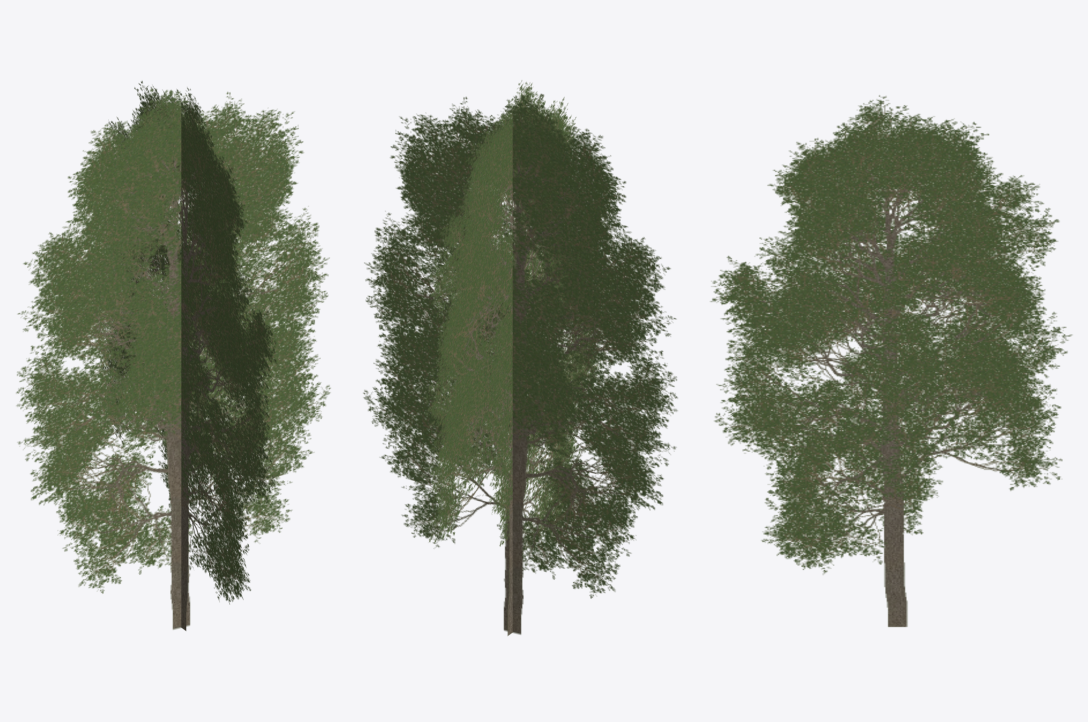
The model's file is CaryaOvalis.glb.
The picture shows the model from 3 angles, left to right: view 1: azimuth 30°, elevation 25°; view 2: azimuth 150°, elevation 25°; view 3: azimuth 270°, elevation 25°; orthographic projection. The views are drawn at different scales.
Parts seen in each view (by area): view 1: mesh__mat_billboard_5; view 2: mesh__mat_billboard_5; view 3: mesh__mat_billboard_5.
Part boxes in pixels (<box>): mesh__mat_billboard_5: <box>16,81,330,630</box>; mesh__mat_billboard_5: <box>363,80,677,635</box>; mesh__mat_billboard_5: <box>710,95,1071,626</box>.
Size of the model in its own units: 10.37 by 17.33 by 10.58.
Materials: 1 (1 with a texture image).
